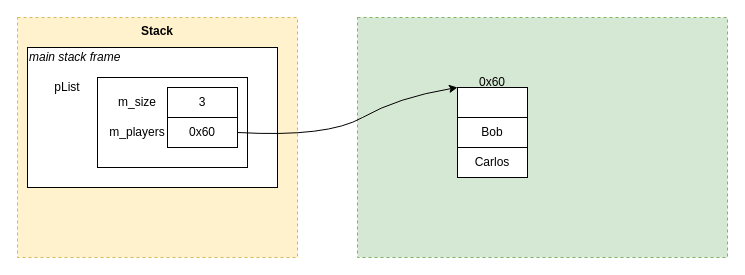
The diagram is 745 pixels wide and 275 high, and some of its shapes have lost their labels. The box of each missing label's shape, as (x1, y1, x2, y2) in pixels:
Alice: (456, 86, 528, 118)
Heap: (356, 16, 728, 258)
